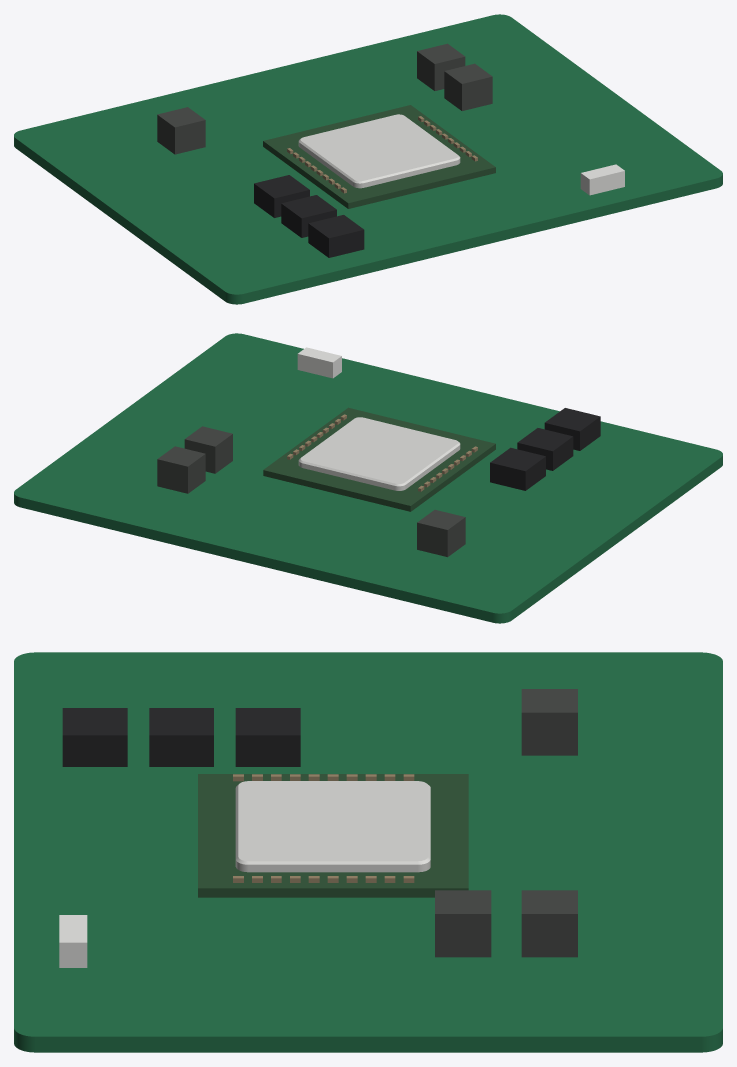
The model's file is board.glb.
3 renders of one model, top to bottom at view 1: azimuth 30°, elevation 25°; view 2: azimuth 150°, elevation 25°; view 3: azimuth 270°, elevation 25°, orthographic. The views are drawn at different scales.
Visible parts, largest first — view 1: board, chip; view 2: board, chip; view 3: board, chip.
Part boxes in pixels (<box>): board: <box>14,14,722,304</box>; chip: <box>263,105,495,208</box>; board: <box>14,333,722,623</box>; chip: <box>263,407,495,511</box>; board: <box>14,652,722,1052</box>; chip: <box>198,774,468,897</box>.
Bounding box in the file's own units: 84 × 6 × 65.5.
